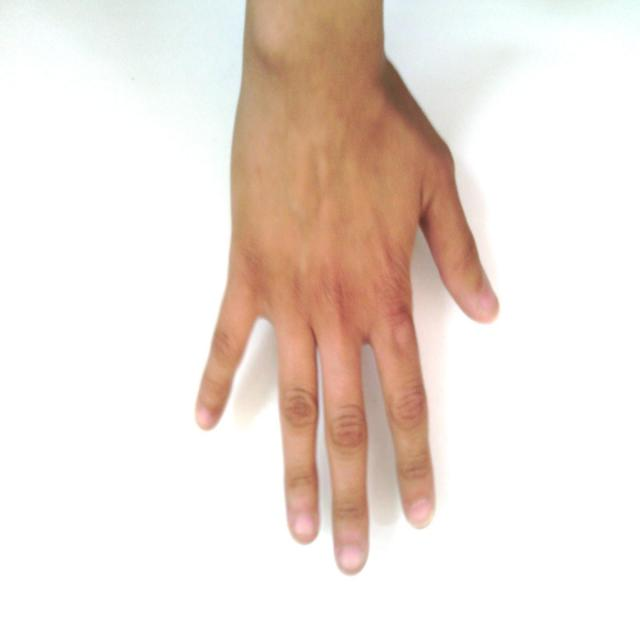others: (175, 0, 540, 578)
